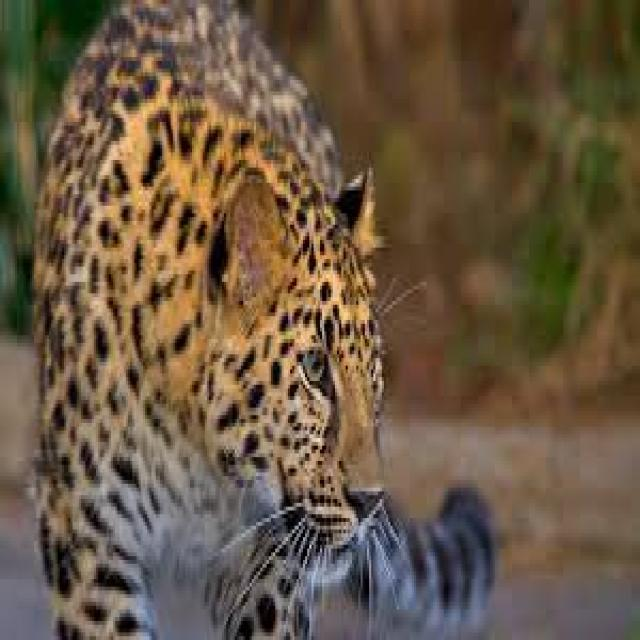Leopard: (34, 0, 516, 640)
